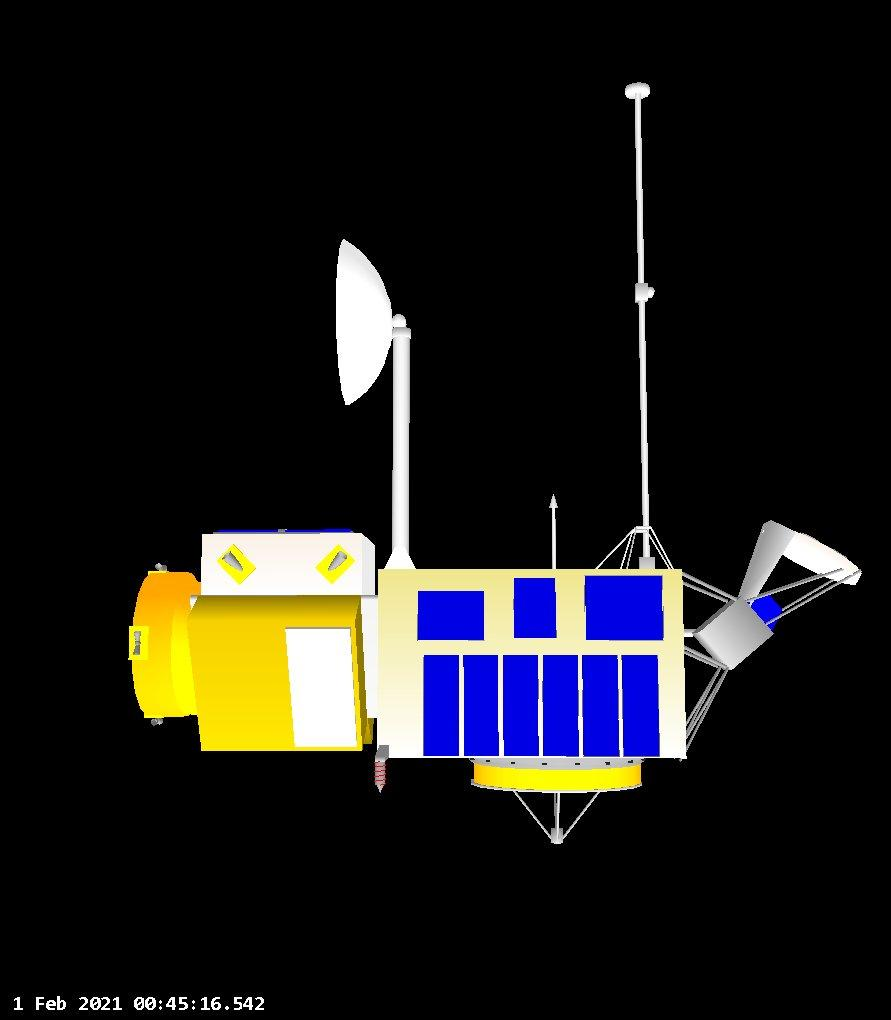antenna: (606, 68, 679, 580), (325, 231, 418, 417), (458, 768, 652, 847), (756, 509, 872, 607)
body: (194, 519, 694, 766)
solar: (418, 649, 663, 760), (572, 570, 672, 644), (412, 584, 488, 646), (509, 572, 559, 640)
thruster: (122, 560, 205, 730)
